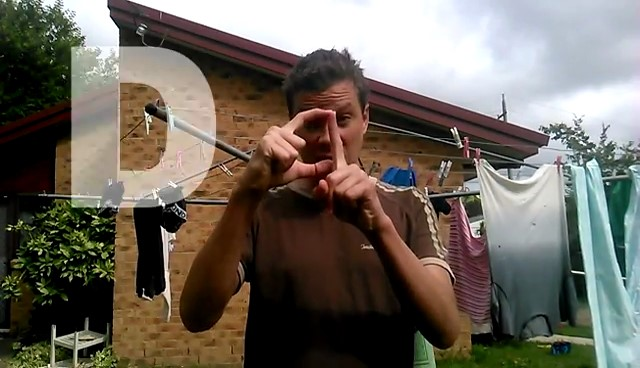D: (247, 103, 383, 234)
